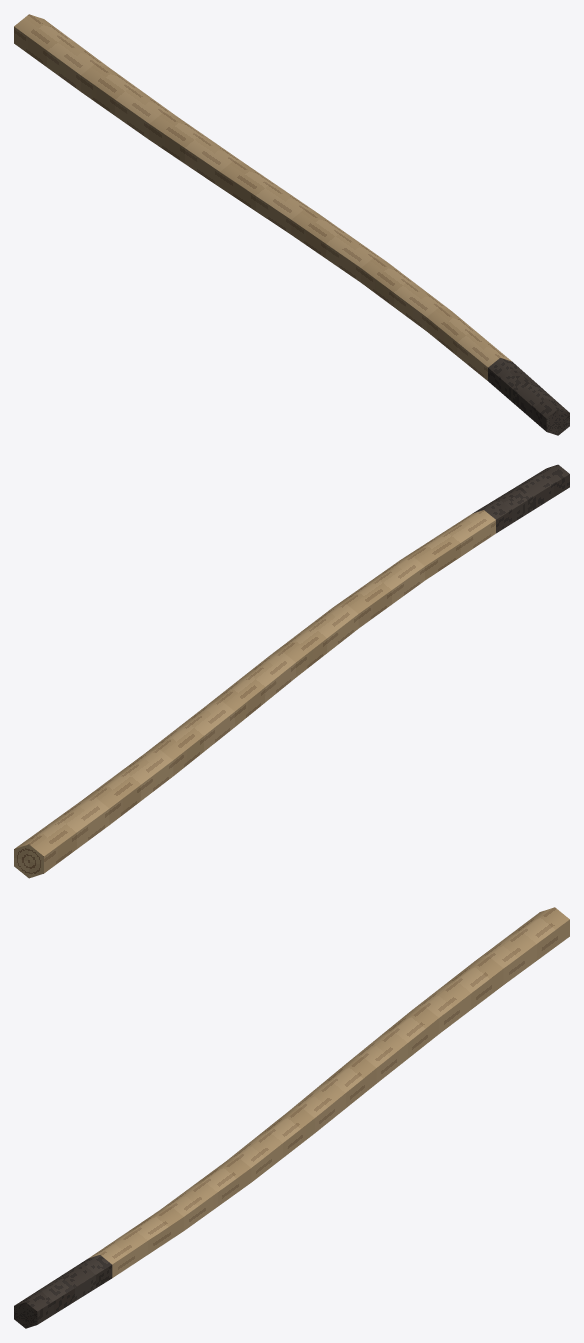
File: stir_stick.glb
The picture shows the model from 3 angles, top to bottom: view 1: azimuth 30°, elevation 25°; view 2: azimuth 150°, elevation 25°; view 3: azimuth 330°, elevation 25°; orthographic projection.
Visible parts, largest first — view 1: STIR_STICK; view 2: STIR_STICK; view 3: STIR_STICK.
Part boxes in pixels (x1,y1,x2,y2): STIR_STICK: (14,14,569,435); STIR_STICK: (14,464,569,878); STIR_STICK: (14,907,569,1328).
Bounding box in the file's own units: 0.0304 × 0.0235 × 0.66.
Materials: 1 (1 with a texture image).
